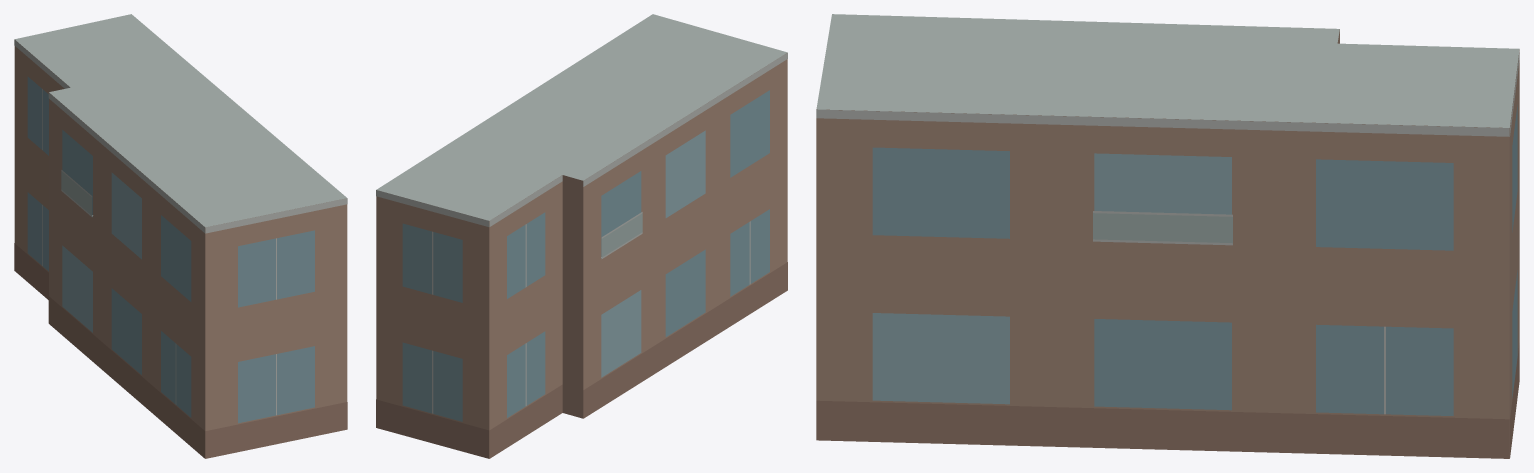
The model's file is survey-upis-33021776.glb.
The picture shows the model from 3 angles, left to right: view 1: azimuth 30°, elevation 25°; view 2: azimuth 150°, elevation 25°; view 3: azimuth 270°, elevation 25°; orthographic projection. The views are drawn at different scales.
Visible parts, largest first — view 1: survey-upis-33021776.tmp; view 2: survey-upis-33021776.tmp; view 3: survey-upis-33021776.tmp.
Part boxes in pixels (bbox=[...]): survey-upis-33021776.tmp: bbox=[14, 14, 347, 458]; survey-upis-33021776.tmp: bbox=[376, 14, 787, 458]; survey-upis-33021776.tmp: bbox=[816, 14, 1519, 458].
Bounding box in the file's own units: 6.73 × 9.1 × 17.54.
